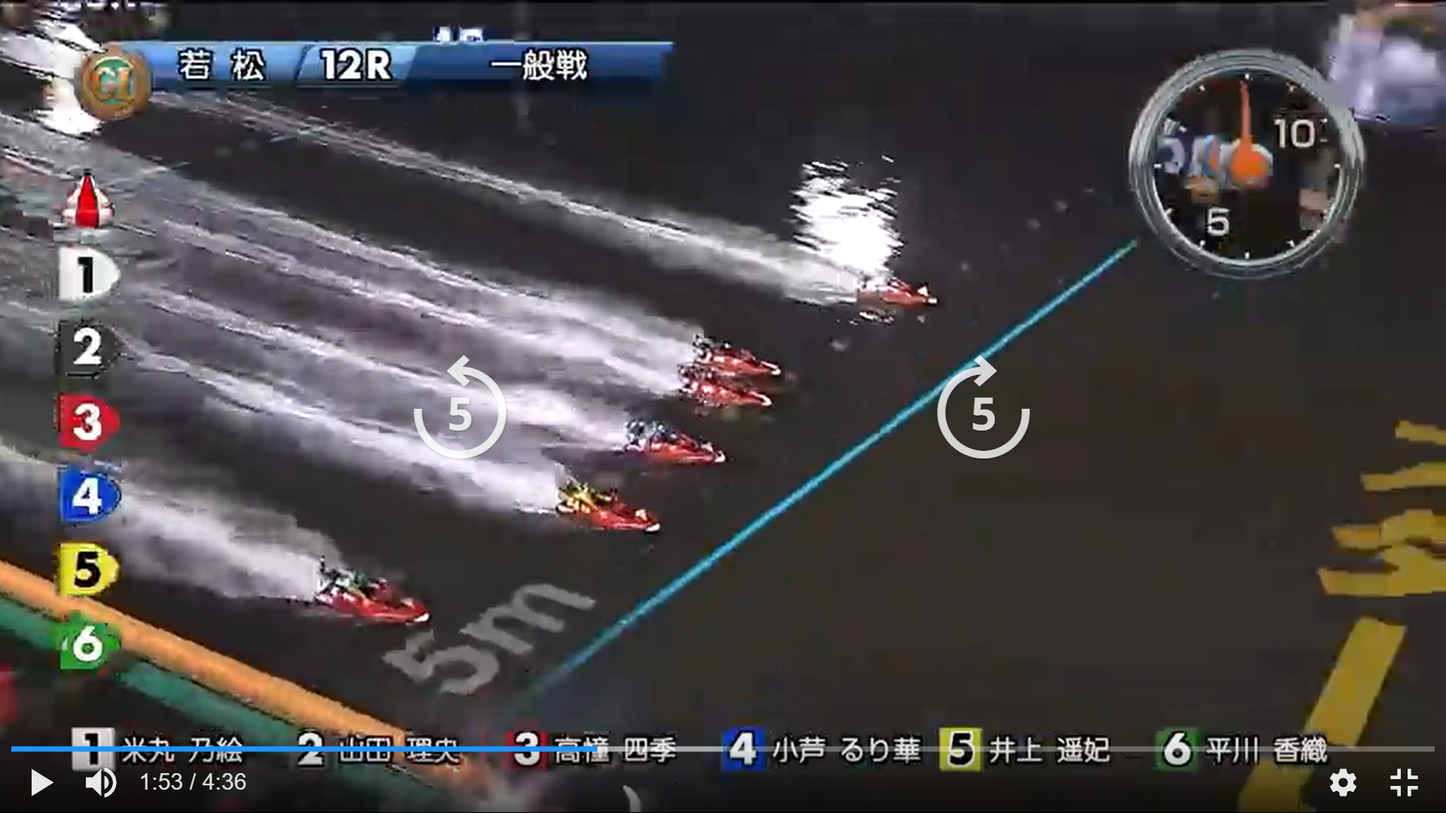１号艇: (842, 276, 926, 312)
２号艇: (724, 348, 775, 372)
３号艇: (693, 379, 743, 403)
４号艇: (636, 425, 693, 463)
５号艇: (559, 487, 633, 528)
６号艇: (319, 571, 400, 616)
